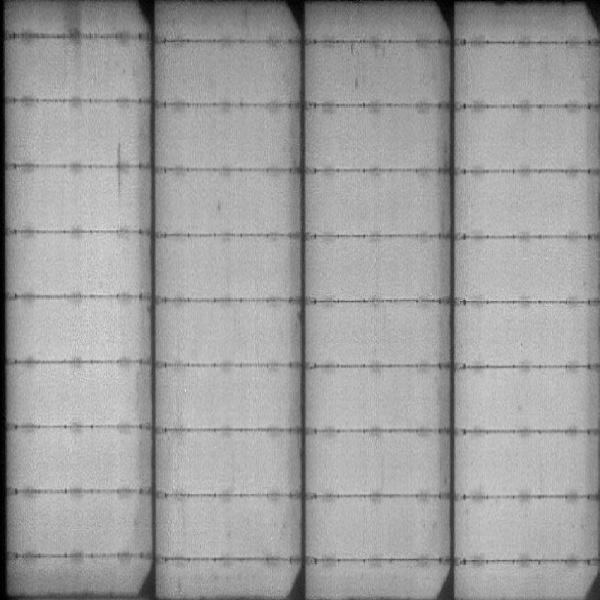scratch: (112, 140, 124, 198)
